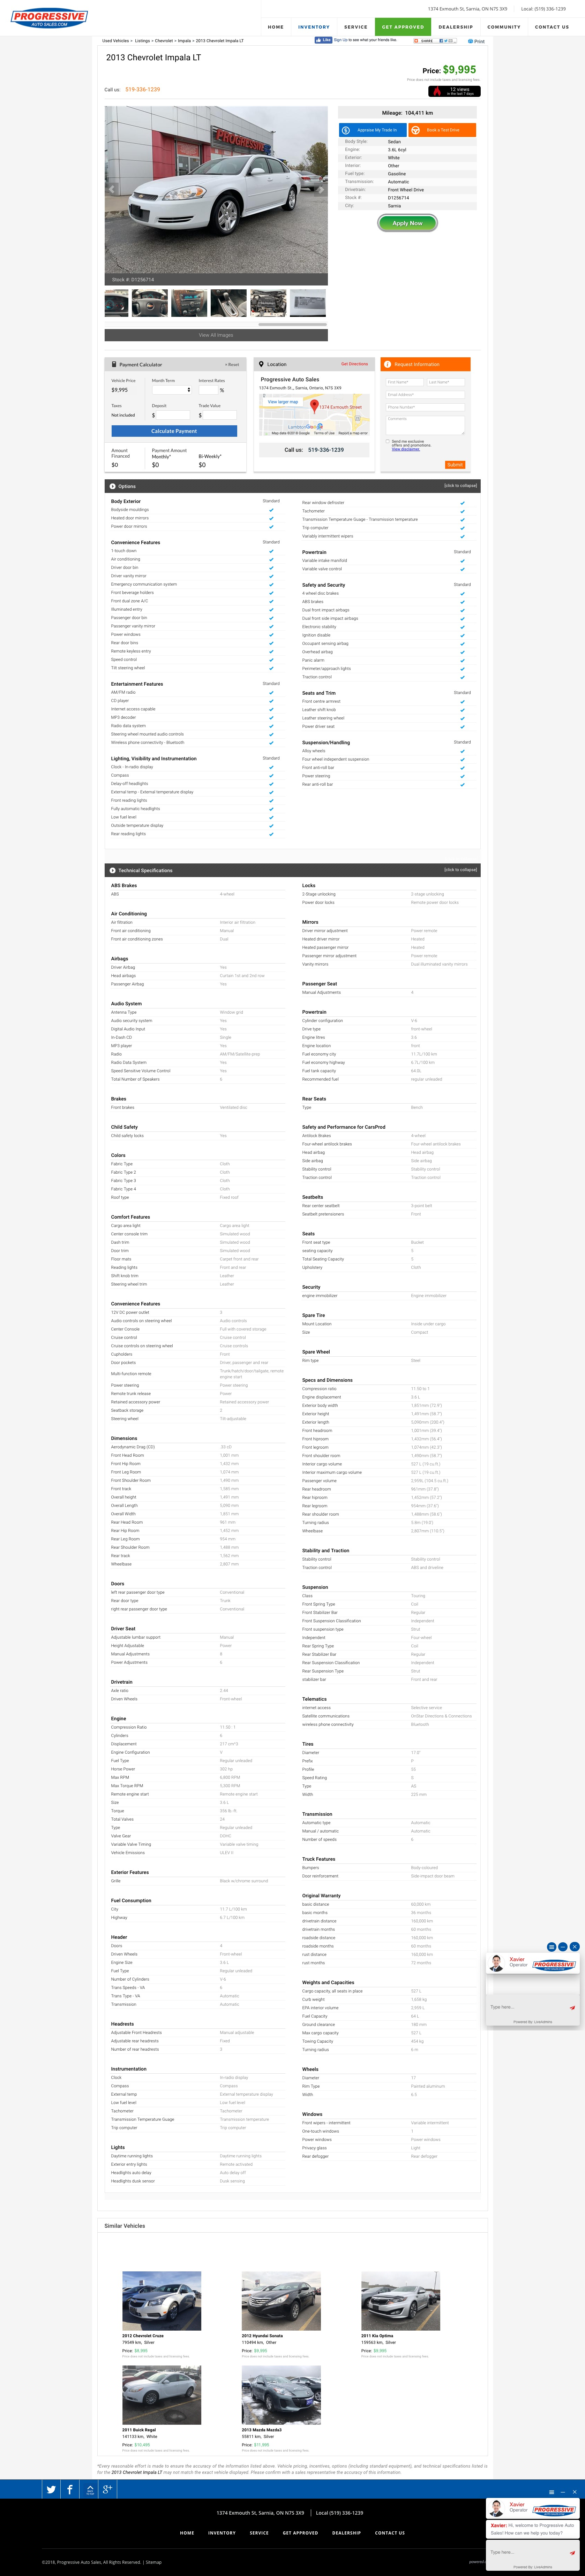car: (314, 182, 329, 197)
